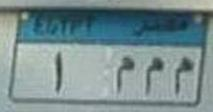1: (52, 49, 67, 95)
meem: (171, 52, 194, 99), (141, 54, 165, 99), (113, 53, 137, 98)
